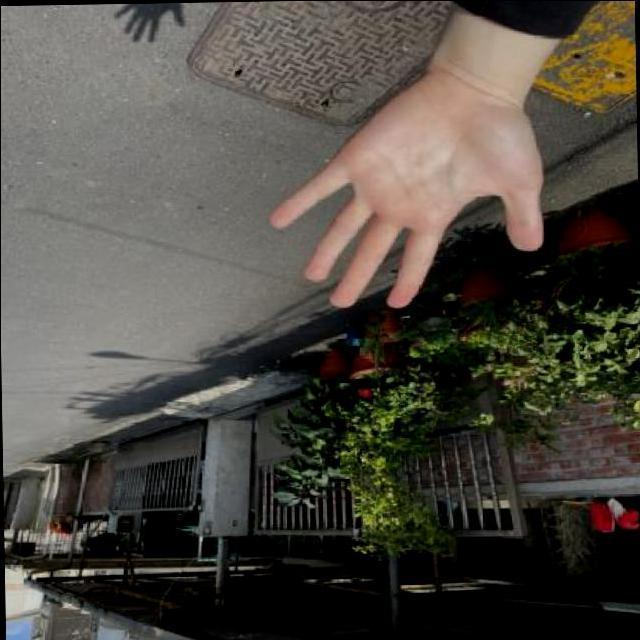hand: (255, 61, 562, 322)
